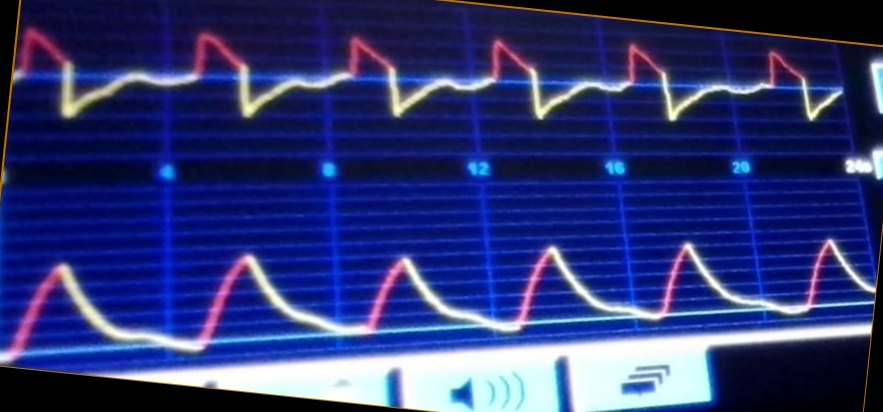Ineffective_effort Flow: (15, 18, 847, 133)
Ineffective_effort Volume: (2, 236, 868, 358)
